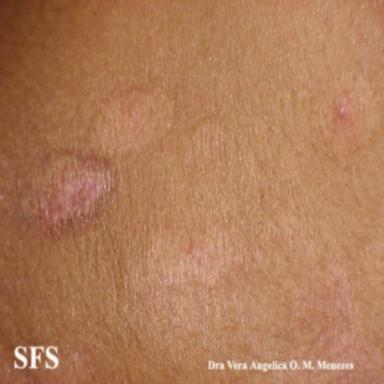Epidermolysis-Bullosa-Pruriginosa: (122, 208, 353, 353), (28, 87, 174, 236)
